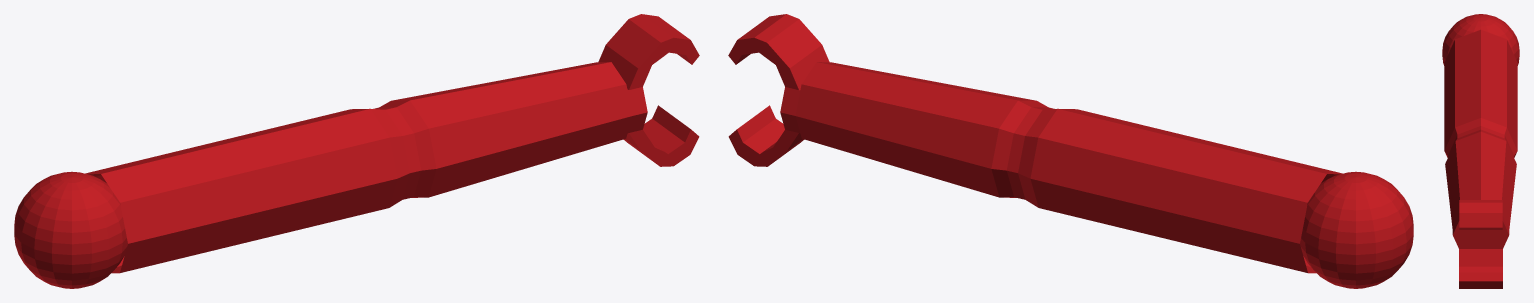
Rendered from player_robot_arm.obj.
3 views of the same model, side by side, from view 1: azimuth 30°, elevation 25°; view 2: azimuth 150°, elevation 25°; view 3: azimuth 270°, elevation 25° (orthographic). The views are drawn at different scales.
Visible parts, largest first — view 1: Cube.002; view 2: Cube.002; view 3: Cube.002.
Boxes of the visible parts, left/top/right/bottom form: Cube.002: left=14, top=14, right=699, bottom=288; Cube.002: left=728, top=14, right=1413, bottom=288; Cube.002: left=1442, top=14, right=1519, bottom=288.
Bounding box in the file's own units: 5.88 × 1.09 × 0.8882.
Materials: 1 (1 with a texture image).
